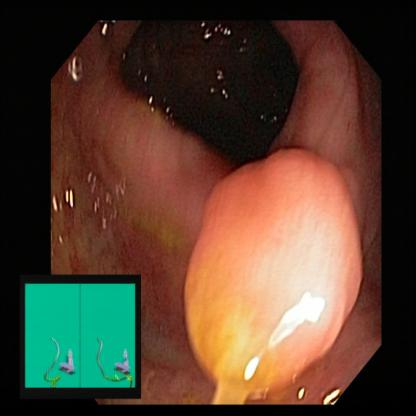Labels: (25, 273, 143, 396)
Polyps: (189, 149, 365, 361)
